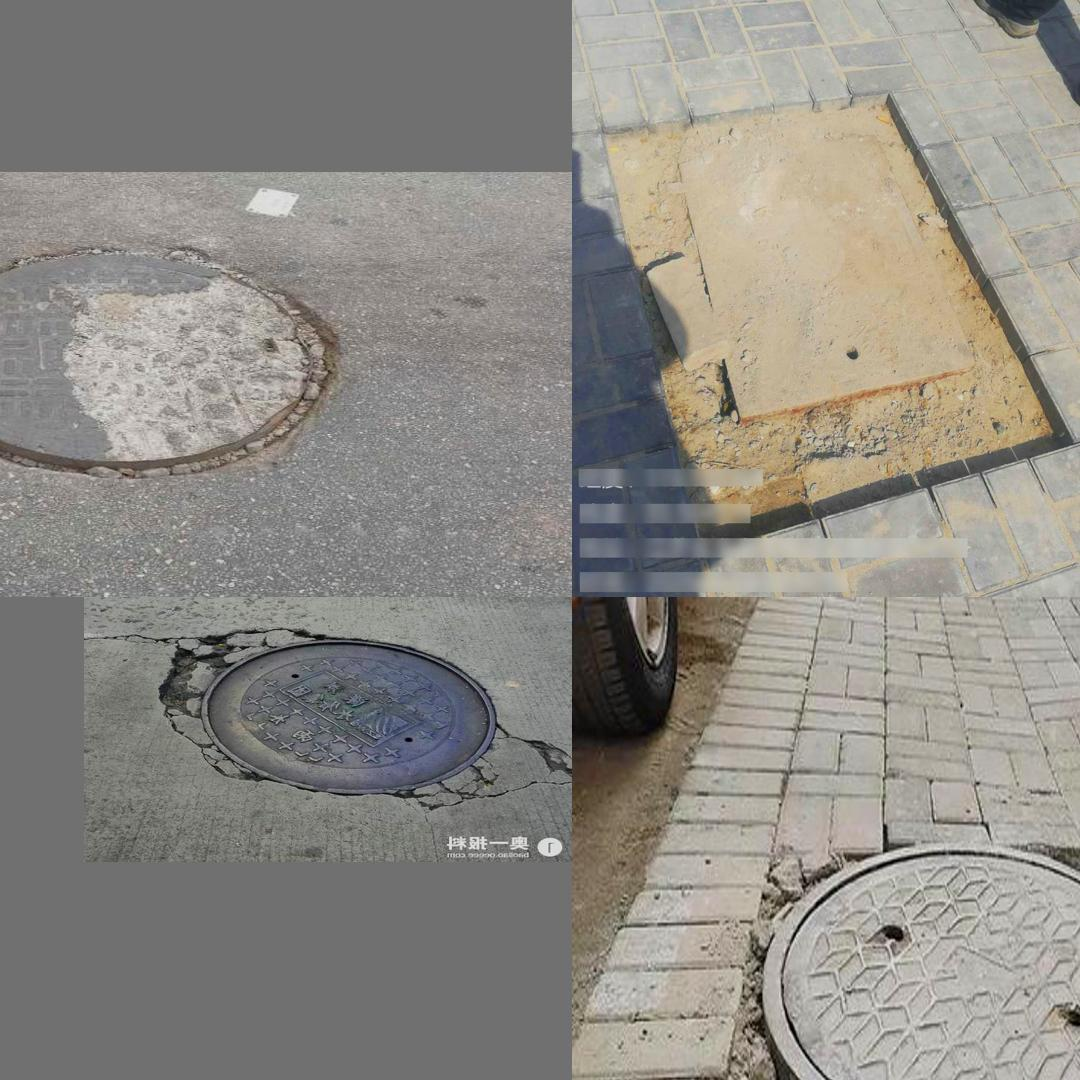circle: (602, 110, 1067, 488), (683, 815, 1080, 1080), (0, 232, 360, 483), (151, 621, 562, 809)
